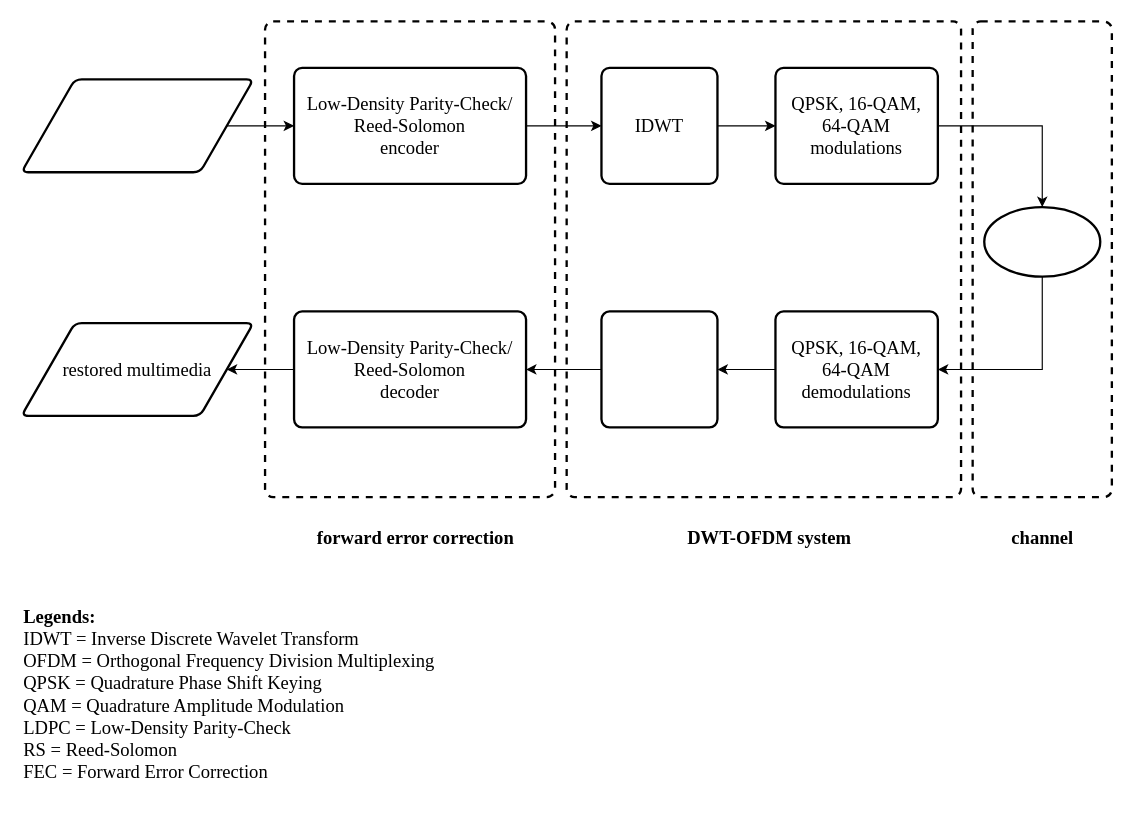
This 1132x829 diagram has some shape labels left out. The shapes that lost their labels are listed below. From the top down, each one's centre as x and y in pixels, then its label:
(x=137, y=125): input multimedia: image, text, audio
(x=1042, y=241): Rayleigh
(x=659, y=369): DWT
